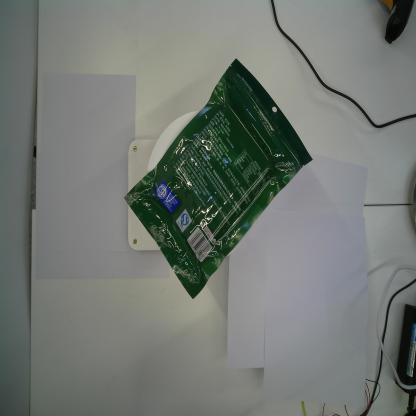Dried Food: (124, 57, 314, 297)
